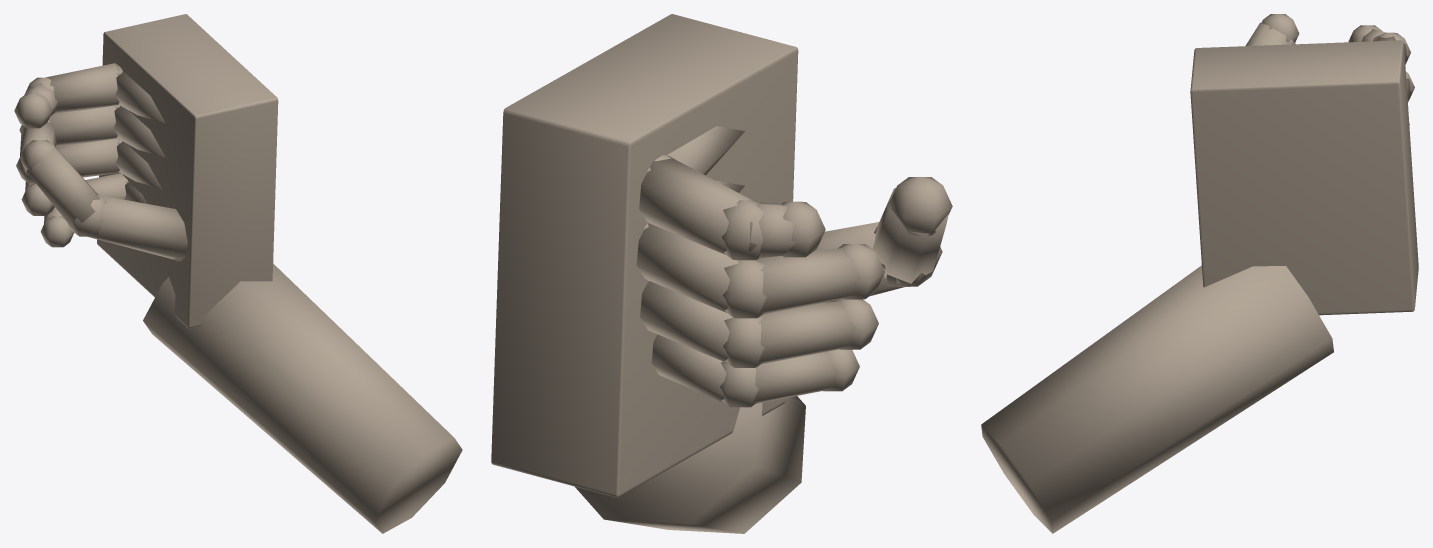
The model's file is hand.glb.
The picture shows the model from 3 angles, left to right: view 1: azimuth 30°, elevation 25°; view 2: azimuth 150°, elevation 25°; view 3: azimuth 270°, elevation 25°; orthographic projection. The views are drawn at different scales.
Parts seen in each view (by area): view 1: Hand_Right_Grip; view 2: Hand_Right_Grip; view 3: Hand_Right_Grip.
Part boxes in pixels (left/top/right/bottom): Hand_Right_Grip: left=14, top=14, right=462, bottom=533; Hand_Right_Grip: left=491, top=14, right=952, bottom=533; Hand_Right_Grip: left=981, top=14, right=1418, bottom=533.
Size of the model in its own units: 0.176 by 0.2098 by 0.1978.
